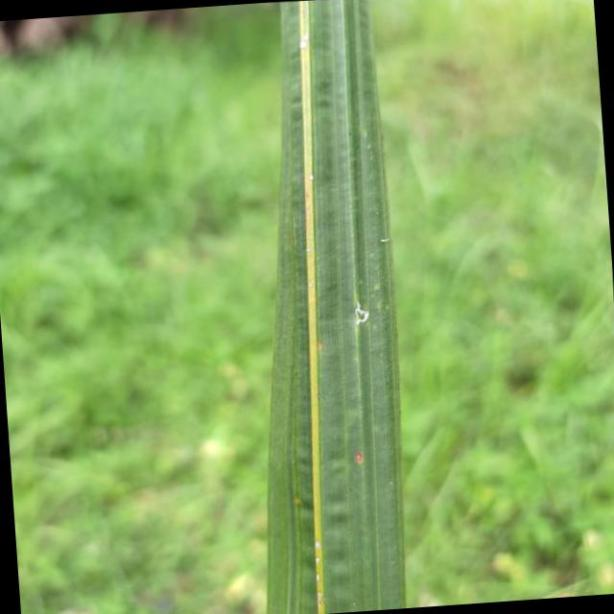Boron: (265, 1, 407, 614)
